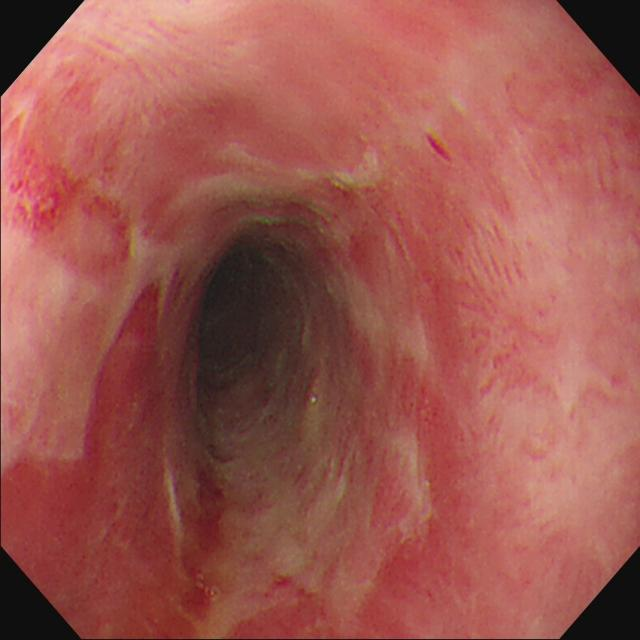A: (2, 403, 228, 640), (336, 316, 461, 640), (2, 148, 141, 280), (229, 573, 334, 640)
C: (425, 135, 454, 164)
E: (202, 245, 271, 377)
